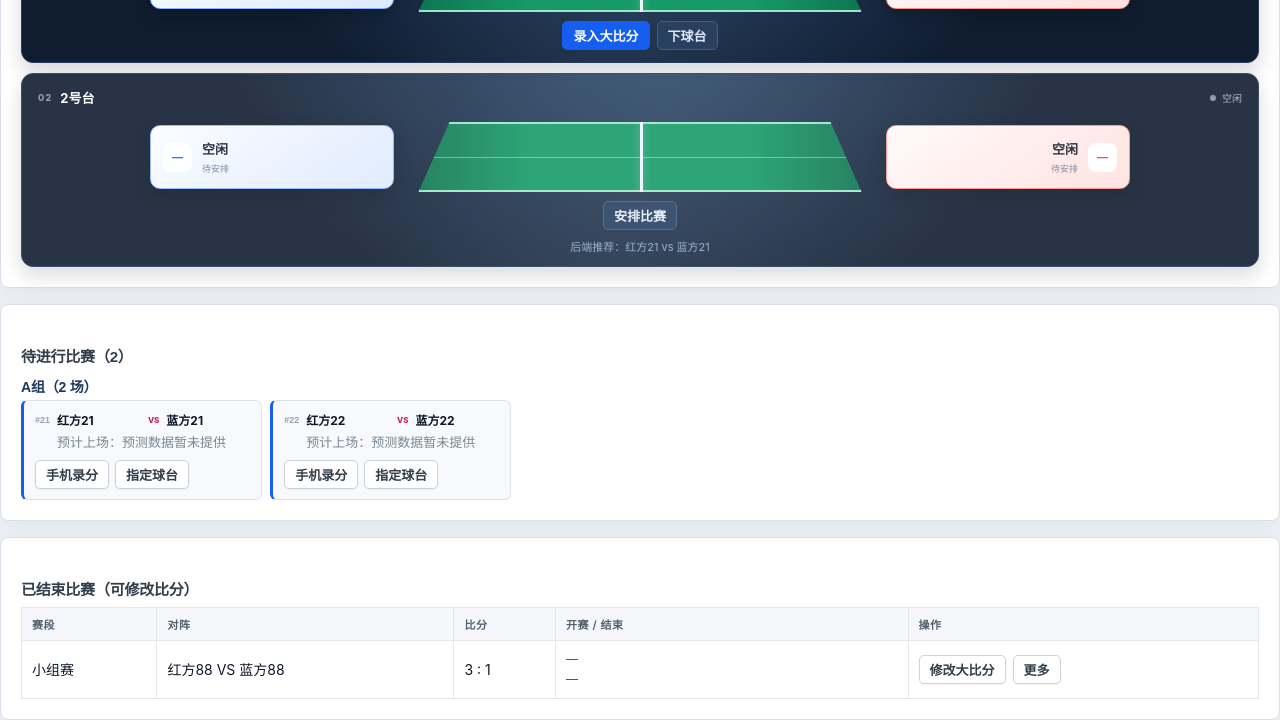
Test case: 现场问题 E：Console 录分冲突（同一场被其他终端改写） › revise 的 409 保留服务端真实语义：不假设“别人已经录分”，弹窗留在原地展示服务端文案
(page scrolled)
Click the button "修改大比分".
click(962, 669)  # box [918,655,1006,684]
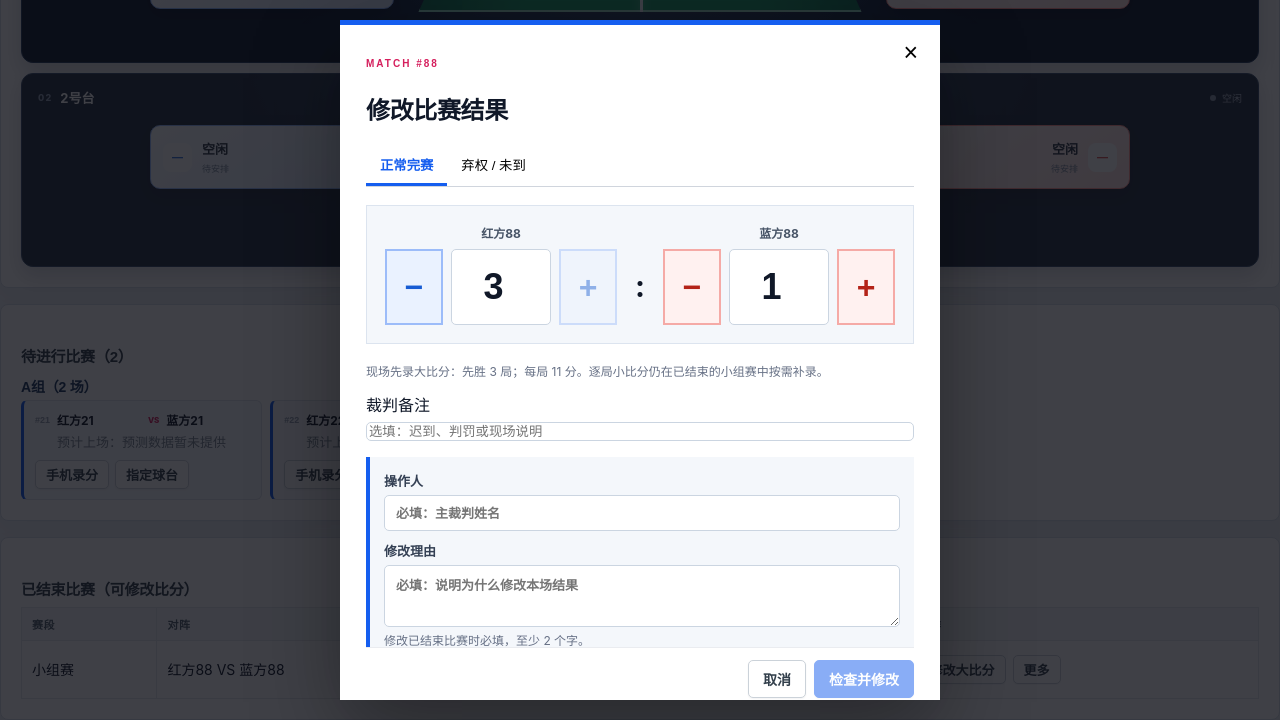
Type "主裁甲" into the field labelled "操作人".
click(642, 513); type("主裁甲")  # box [384,495,900,531]
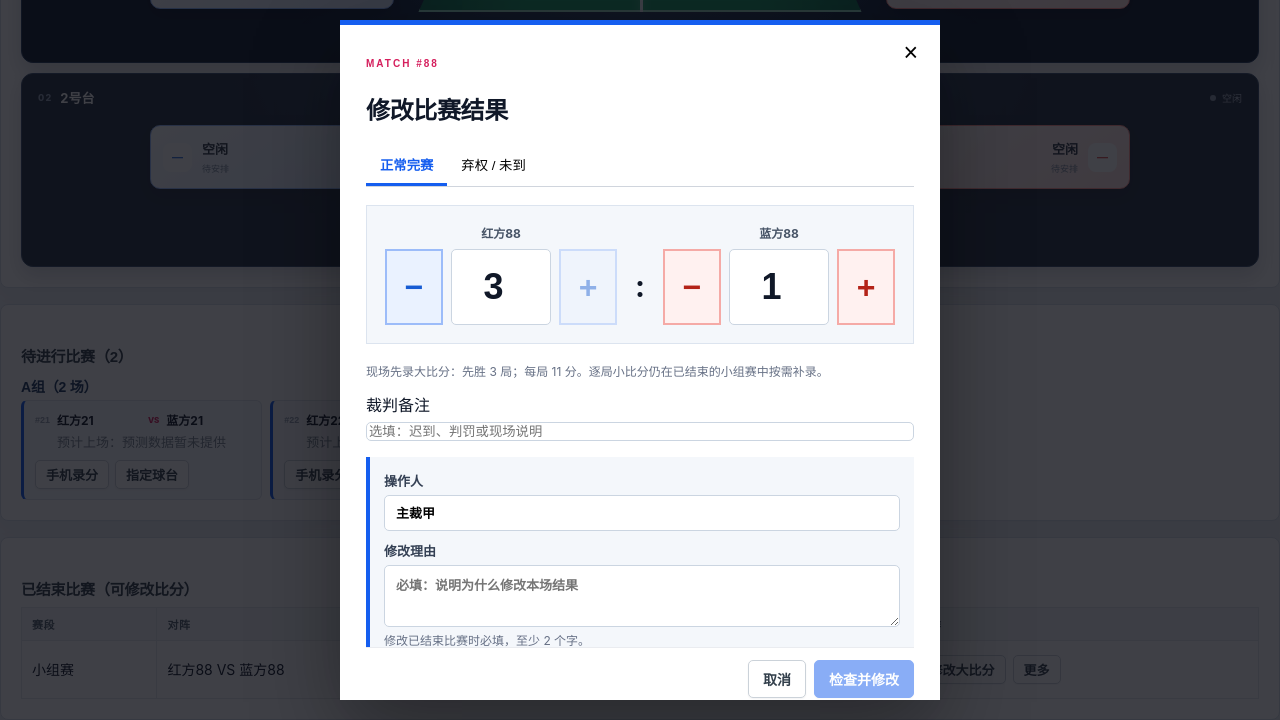
Type "现场复核记录有误" into the text box labelled "修改理由".
click(642, 596); type("现场复核记录有误")  # box [384,565,900,627]
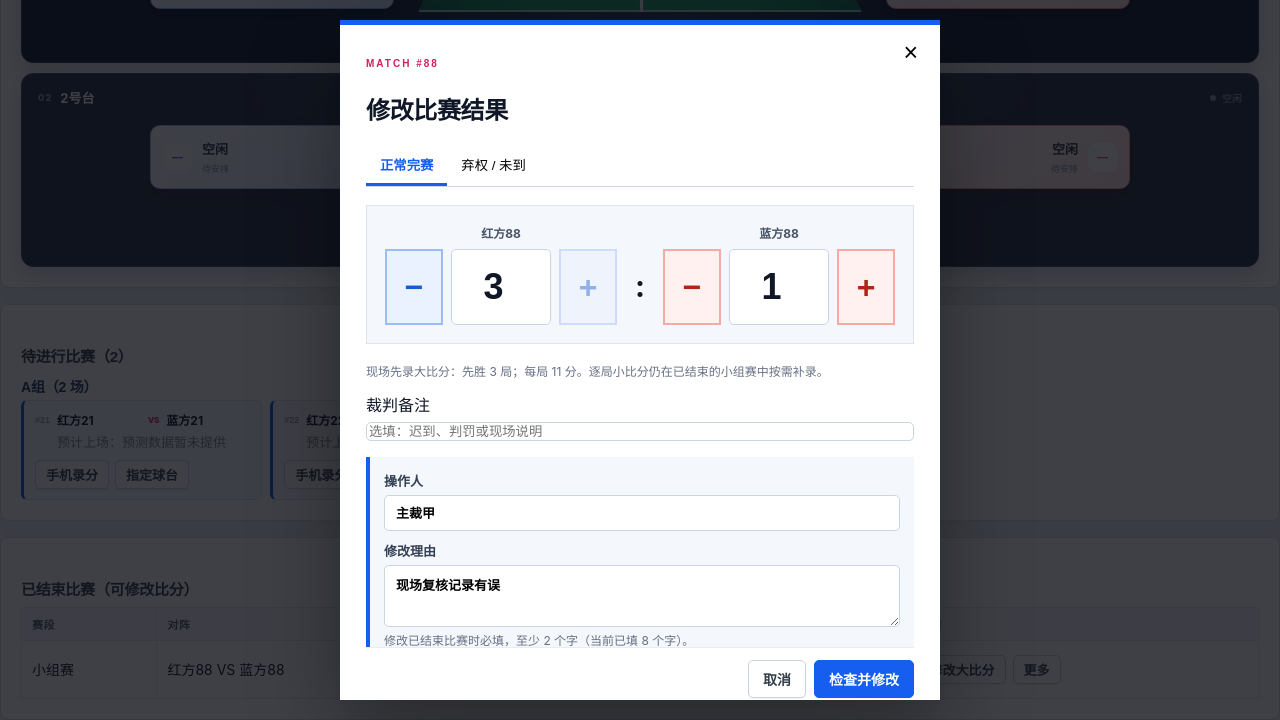
Click the button "检查并修改".
click(864, 679)  # box [814,660,914,698]
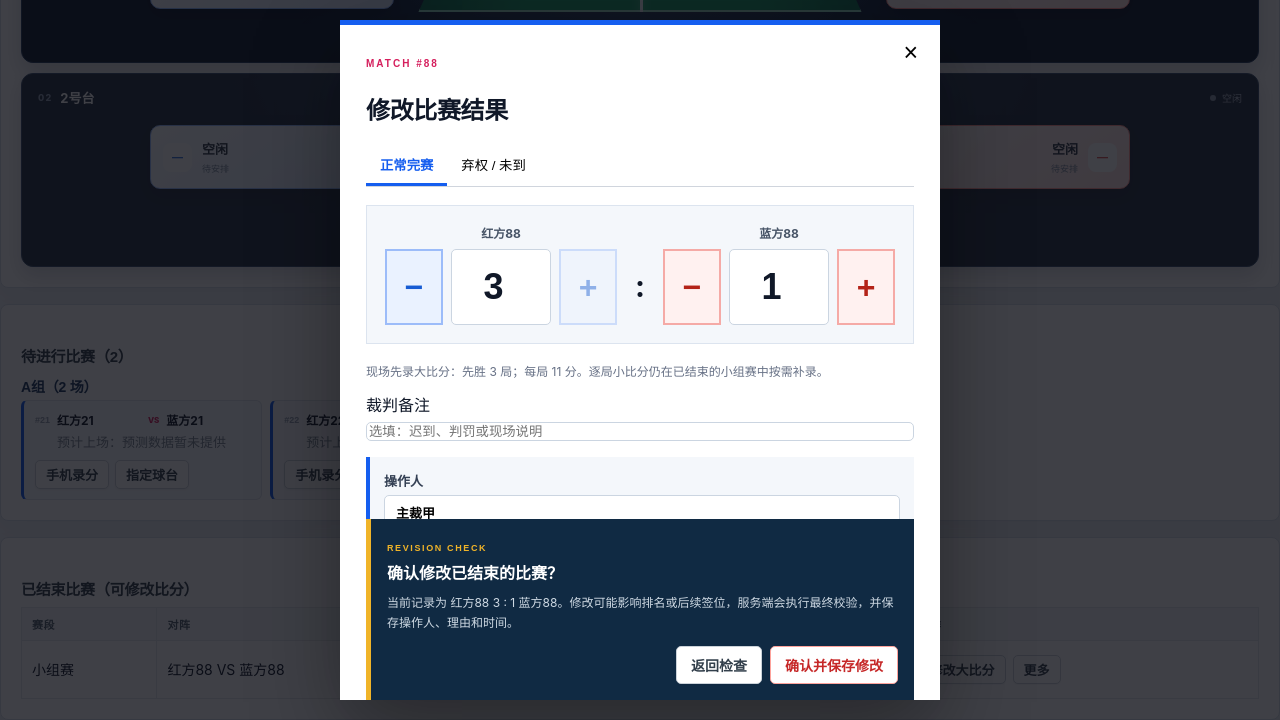
Click the button "确认并保存修改".
click(834, 665)  # box [770,646,898,684]
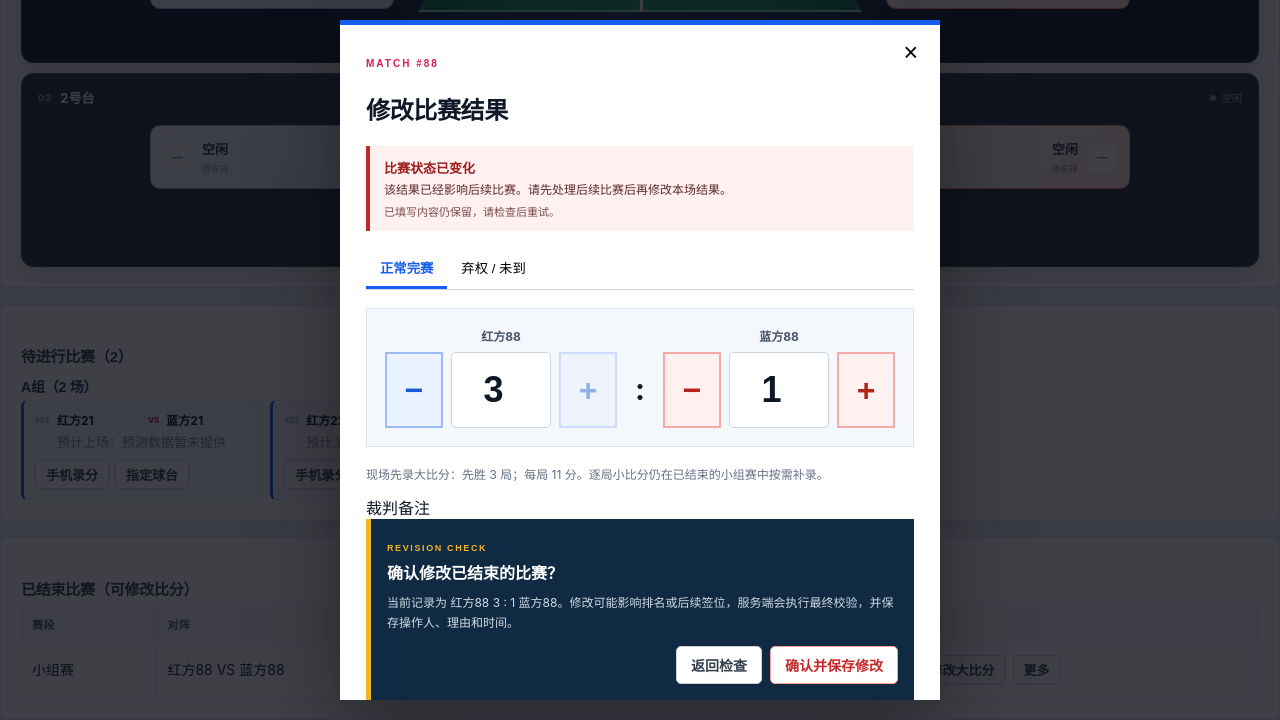
Result: the dialog named "录入比赛大比分" is shown
Result: the text "该结果已经影响后续比赛。请先处理后续比赛后再修改本场结果。" is shown at [384,182,732,197]
